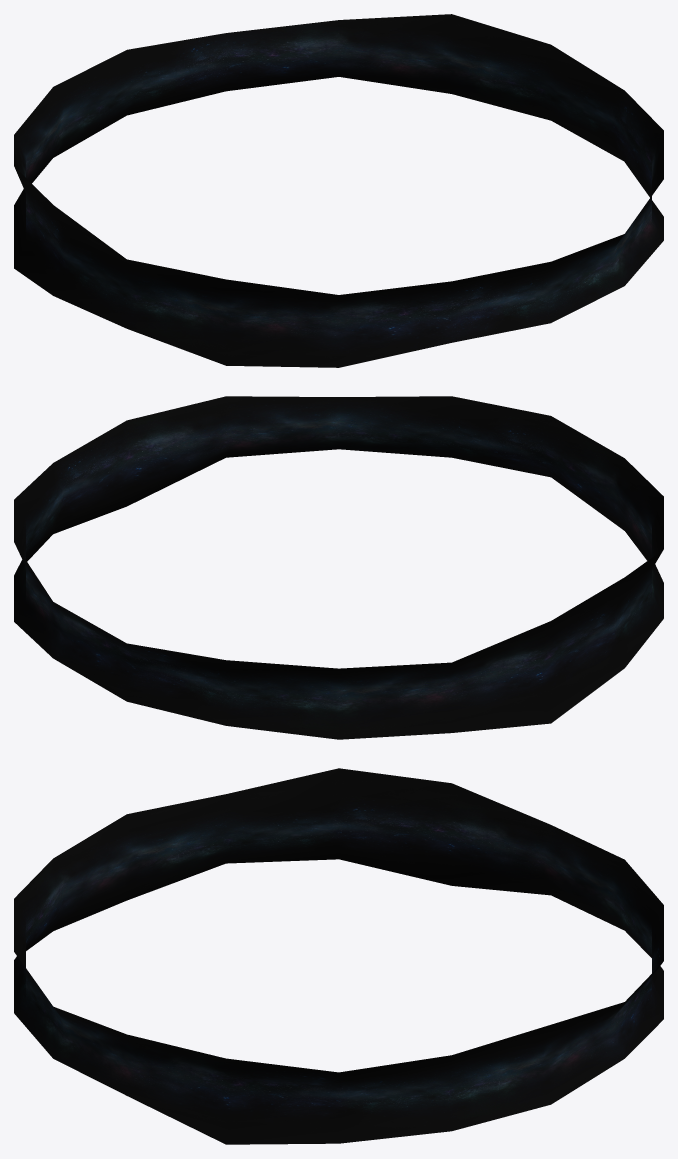
File: ts_ckzdyhxy001.FBX
3 renders of one model, top to bottom at view 1: azimuth 30°, elevation 25°; view 2: azimuth 150°, elevation 25°; view 3: azimuth 270°, elevation 25°, orthographic.
Parts seen in each view (by area): view 1: ts_ckzdyhxy001; view 2: ts_ckzdyhxy001; view 3: ts_ckzdyhxy001.
Part boxes in pixels (<box>): ts_ckzdyhxy001: <box>14,14,663,367</box>; ts_ckzdyhxy001: <box>14,396,663,739</box>; ts_ckzdyhxy001: <box>14,768,663,1144</box>.
Bounding box in the file's own units: 927 × 169 × 913.
